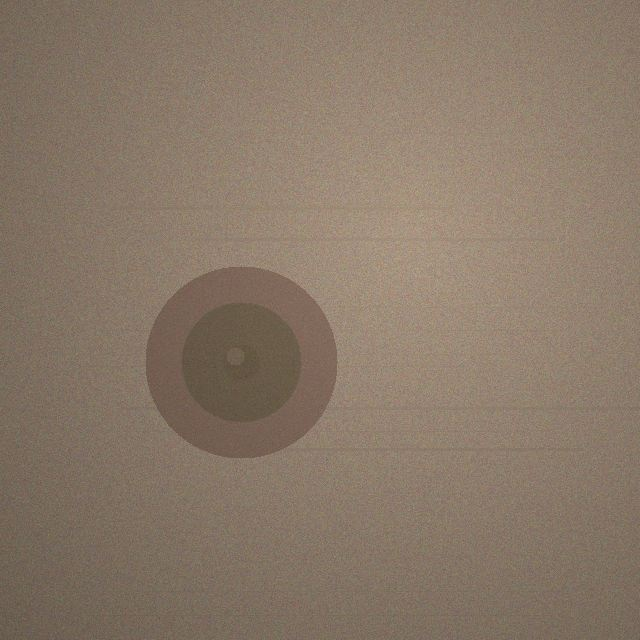good: (145, 266, 337, 458)
